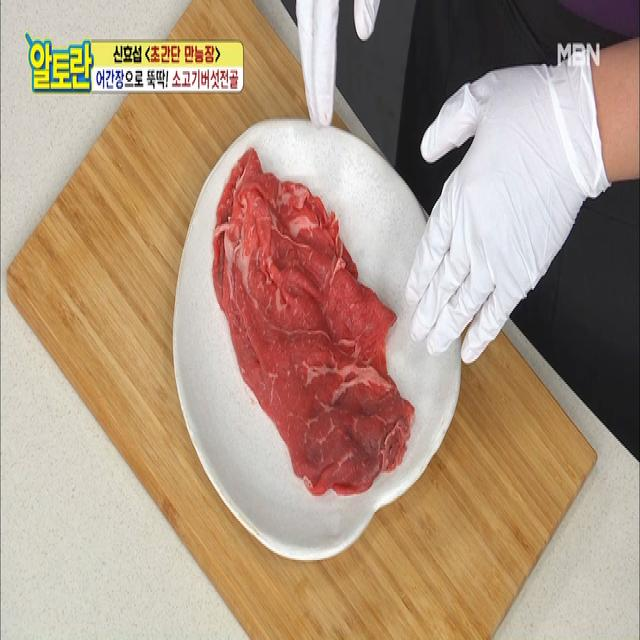beef: (247, 223, 364, 456)
